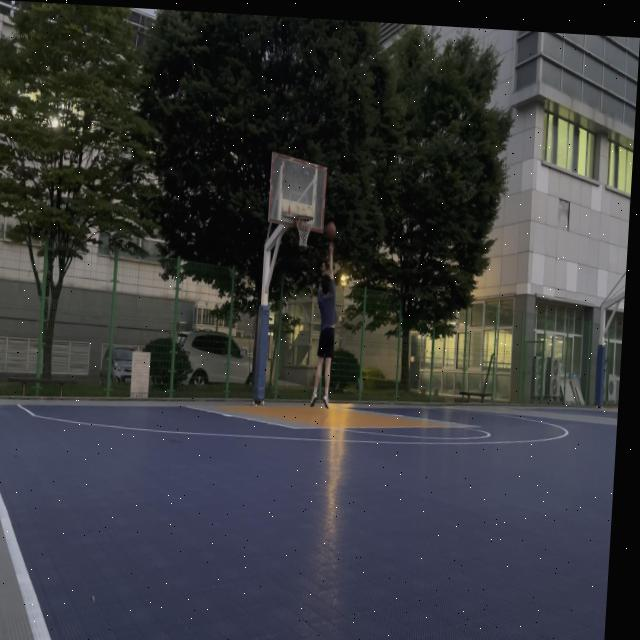basketball: (325, 221, 337, 240)
hoop: (294, 213, 314, 248)
